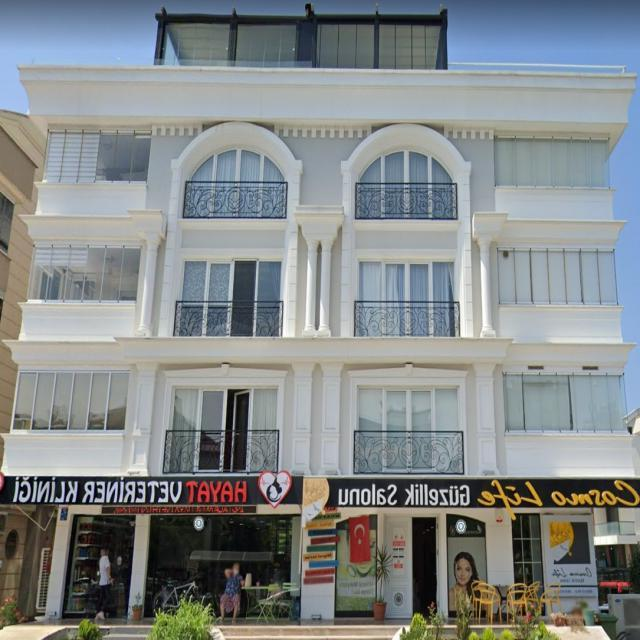Building: (2, 9, 640, 621)
